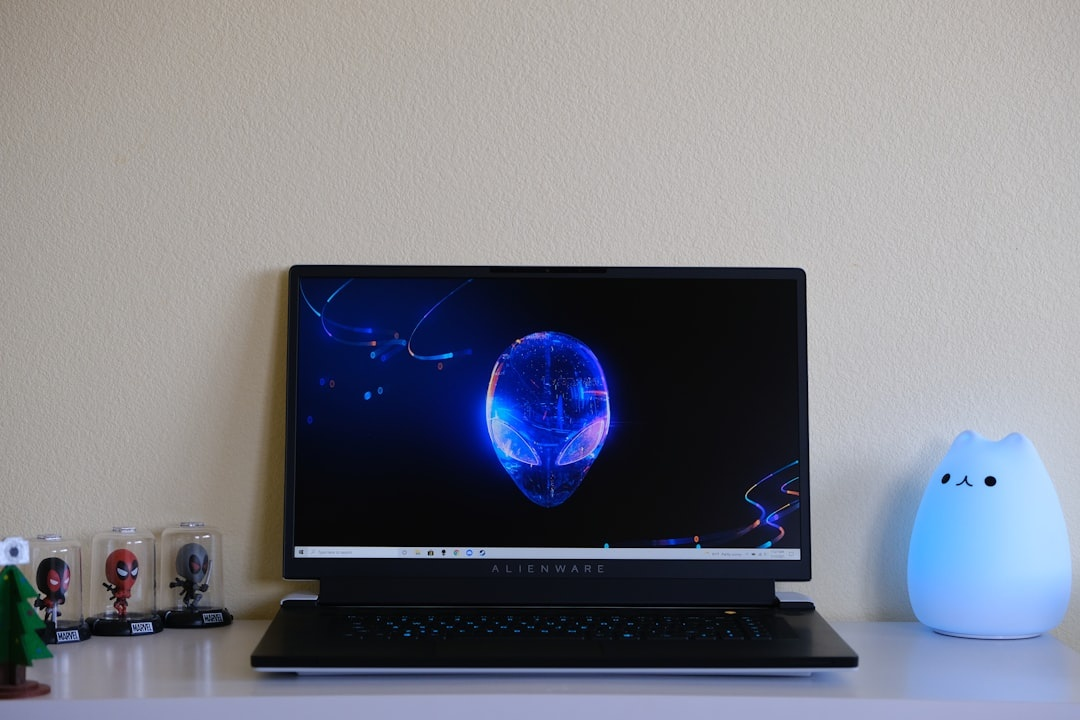laptop: (245, 240, 867, 700)
